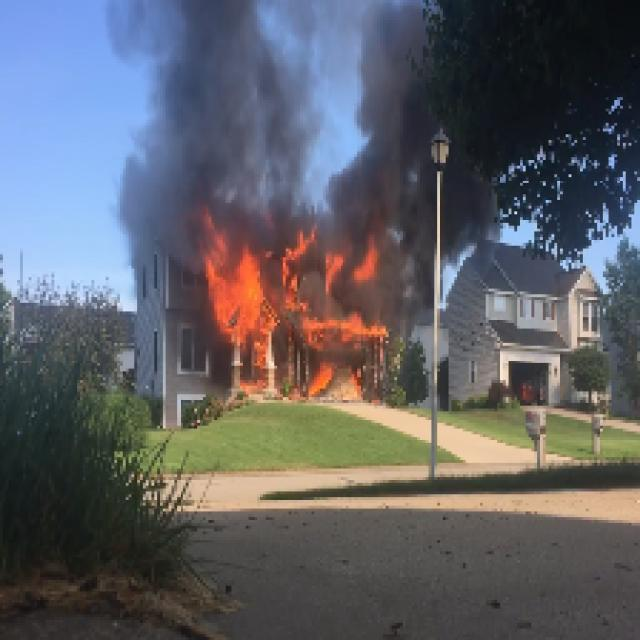Fire: (200, 231, 320, 340)
Smoke: (117, 3, 323, 223), (328, 3, 421, 226)
